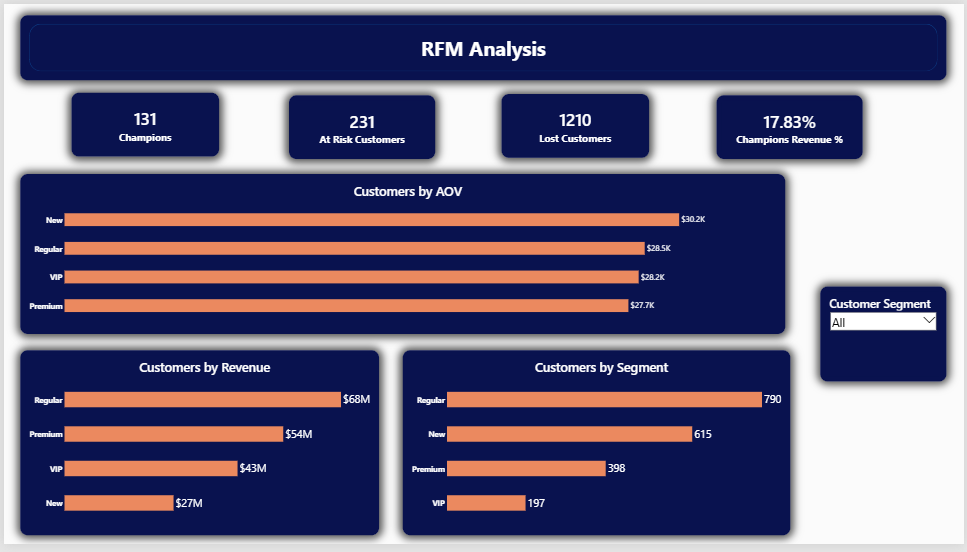

Layout of this report page (visuals, bound fields, positions):
{"tool":"powerbi","page":{"name":"RFM Analysis","canvas":[3840,2160],"ordinal":3},"visuals":[{"type":"shape","box":[65,45,3705,260],"z":0},{"type":"card","fields":{"Values":["ecommerce_customers.Champions"]},"box":[270,355,590,255],"z":1000},{"type":"card","fields":{"Values":["ecommerce_customers.Lost Customers"]},"box":[1990,360,590,255],"z":2000},{"type":"card","fields":{"Values":["ecommerce_customers.At Risk Customers"]},"box":[1140,365,585,255],"z":3000},{"type":"card","fields":{"Values":["ecommerce_customers.Champions Revenue %"]},"box":[2850,365,585,255],"z":4000},{"type":"slicer","title":"Customer Segment","fields":{"Values":["ecommerce_customers.customer_segment"]},"box":[3215,905,505,690],"z":5000},{"type":"clusteredBarChart","title":"Customers by Segment","fields":{"Category":["ecommerce_customers.customer_segment"],"Y":["ecommerce_customers.Total Customer"]},"box":[1595,1385,1550,740],"z":6000},{"type":"clusteredBarChart","title":"Customers by Revenue","fields":{"Category":["ecommerce_customers.customer_segment"],"Y":["ecommerce_orders.Total Revenue"]},"box":[65,1385,1435,740],"z":7000},{"type":"clusteredBarChart","title":"Customers by AOV","fields":{"Category":["ecommerce_customers.customer_segment"],"Y":["ecommerce_orders.Avg Values Orders"]},"box":[65,680,3060,640],"z":8000}]}

Visuals, with their boxes in screenshot pixels (x1, y1, x2, y2), scaled from the page's 3840x2160 canvas onto the 967x552 screenshot:
shape: (x1=16, y1=12, x2=949, y2=78)
card - ecommerce_customers.Champions: (x1=68, y1=91, x2=217, y2=156)
card - ecommerce_customers.Lost Customers: (x1=501, y1=92, x2=650, y2=157)
card - ecommerce_customers.At Risk Customers: (x1=287, y1=93, x2=434, y2=158)
card - ecommerce_customers.Champions Revenue %: (x1=718, y1=93, x2=865, y2=158)
"Customer Segment" slicer: (x1=810, y1=231, x2=937, y2=408)
"Customers by Segment" clusteredBarChart: (x1=402, y1=354, x2=792, y2=543)
"Customers by Revenue" clusteredBarChart: (x1=16, y1=354, x2=378, y2=543)
"Customers by AOV" clusteredBarChart: (x1=16, y1=174, x2=787, y2=337)
